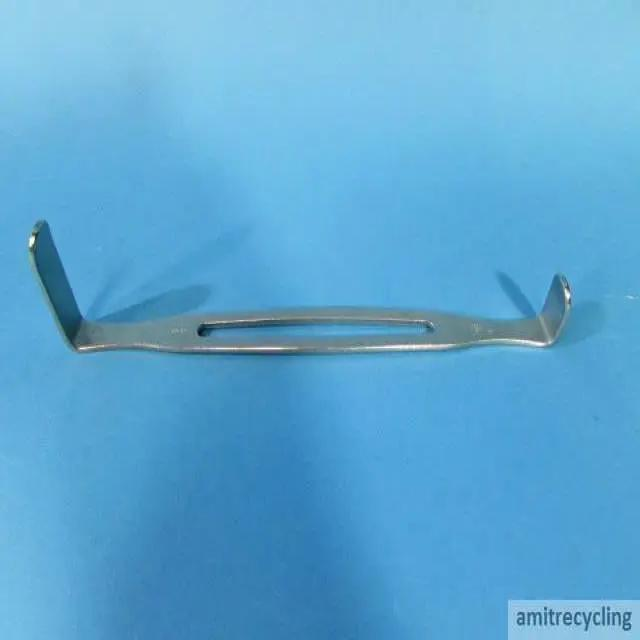Army Navy Retractor: (28, 210, 578, 368)
